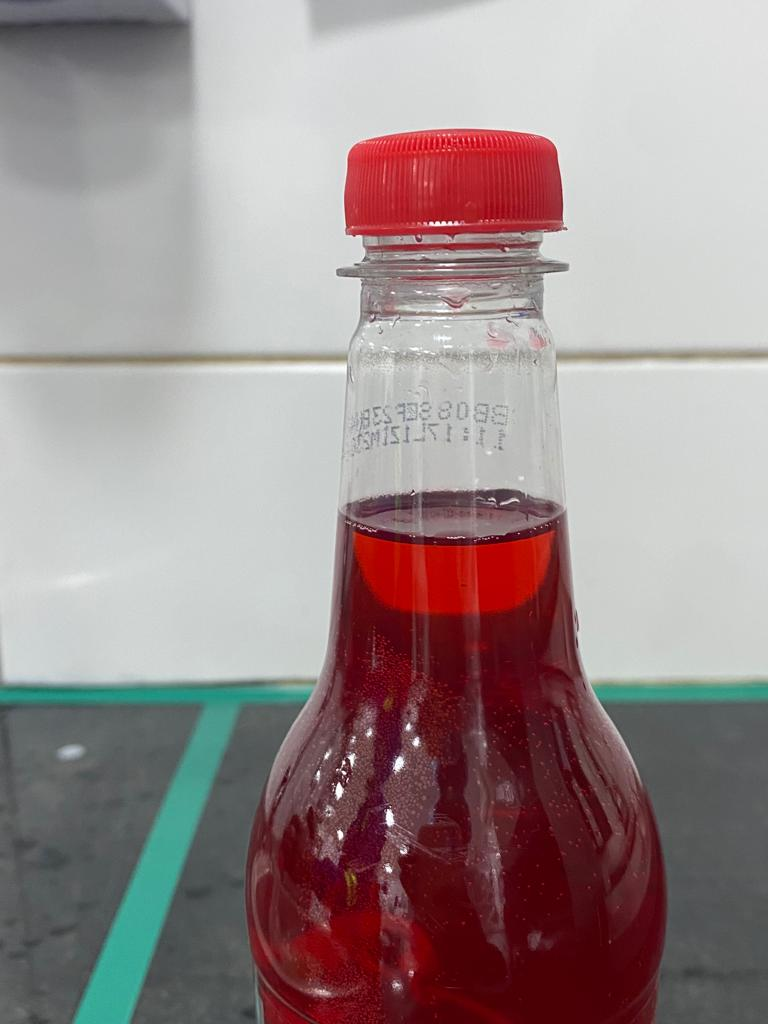Broken Cap: (266, 91, 711, 353)
